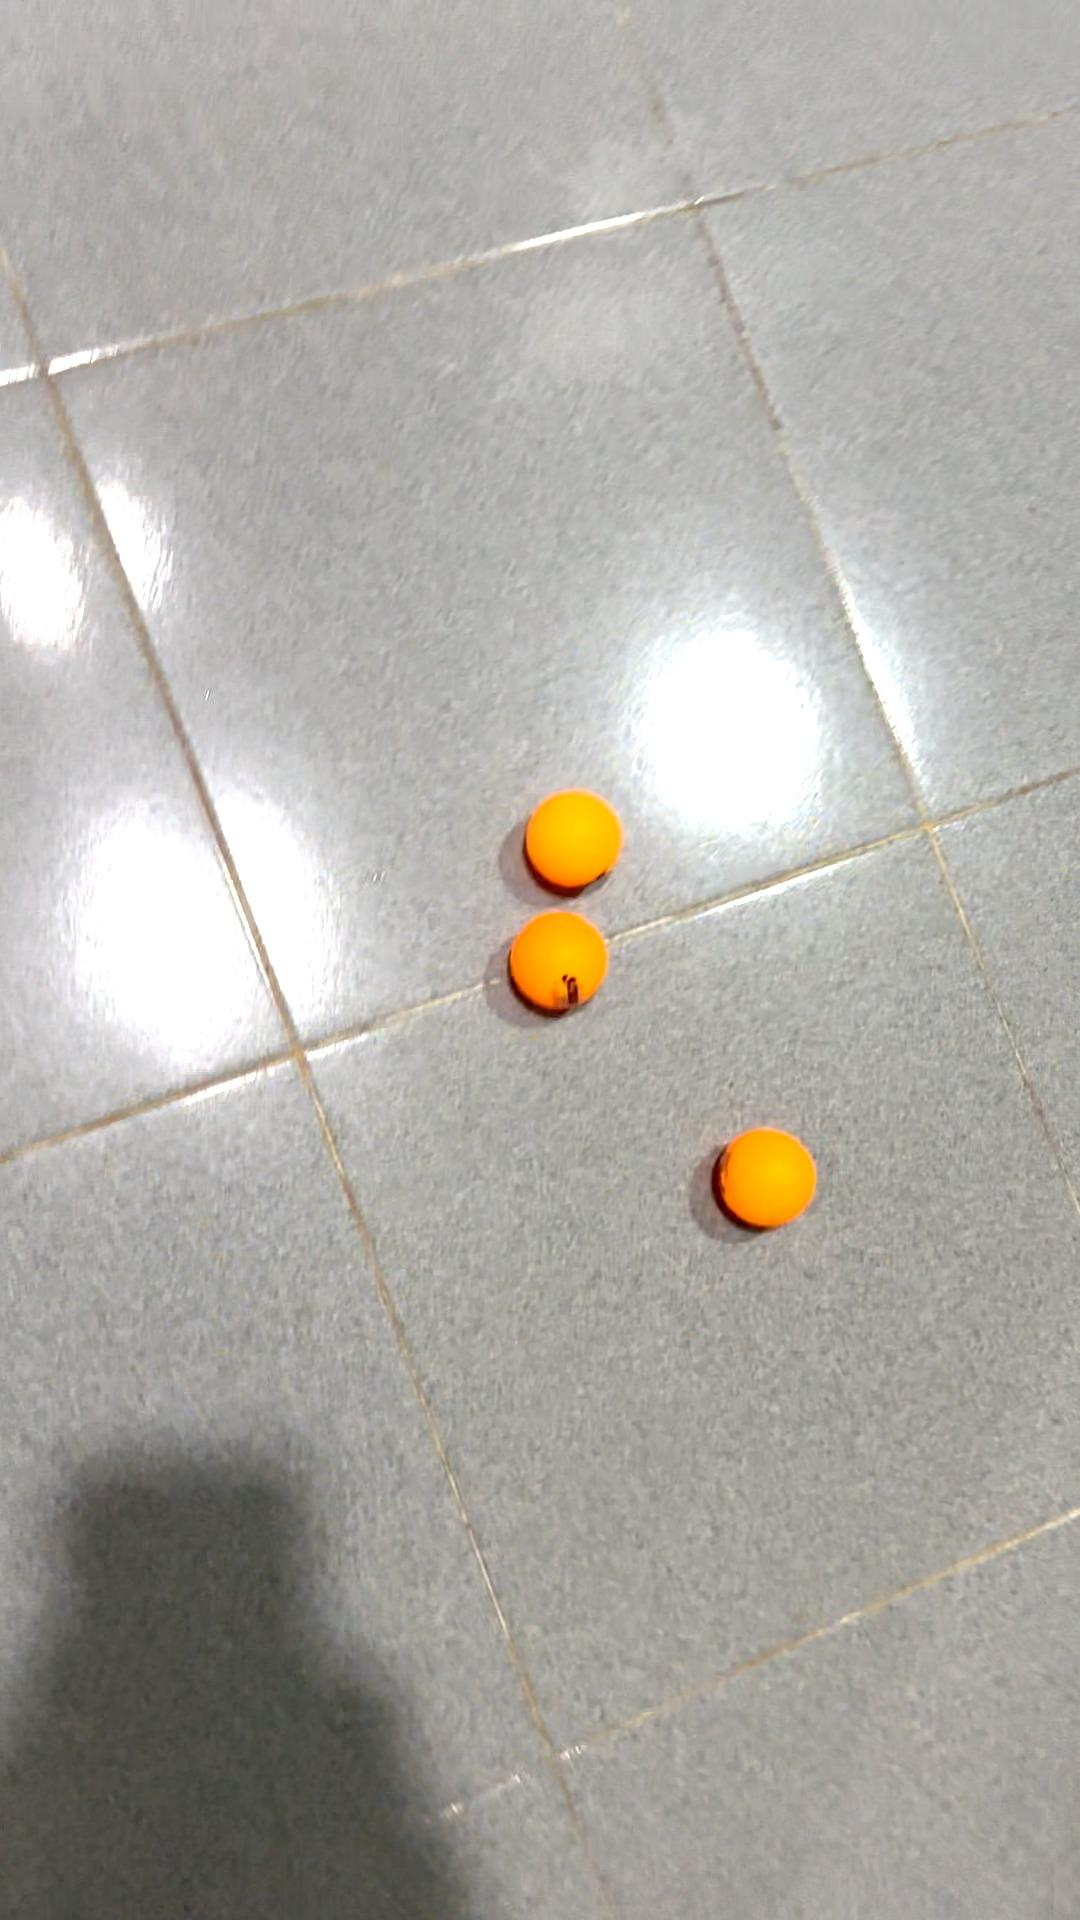oball: (501, 902, 617, 1017), (715, 1121, 819, 1246), (518, 781, 624, 890)
